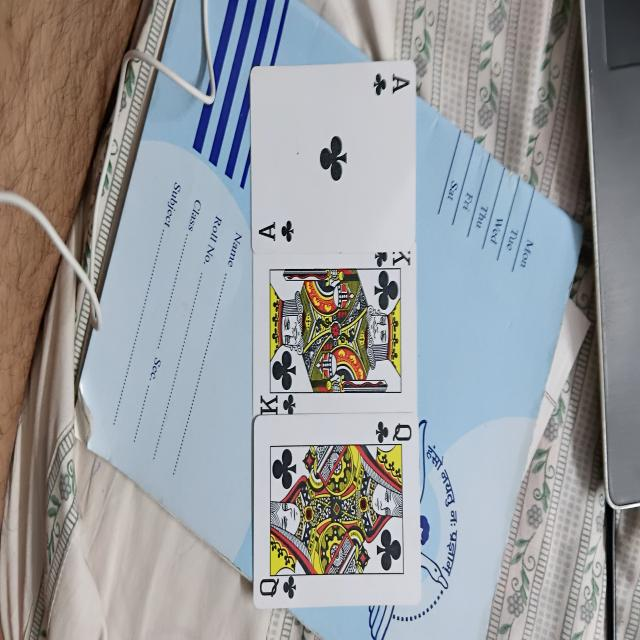AC: (250, 57, 417, 251)
QC: (253, 415, 420, 614)
